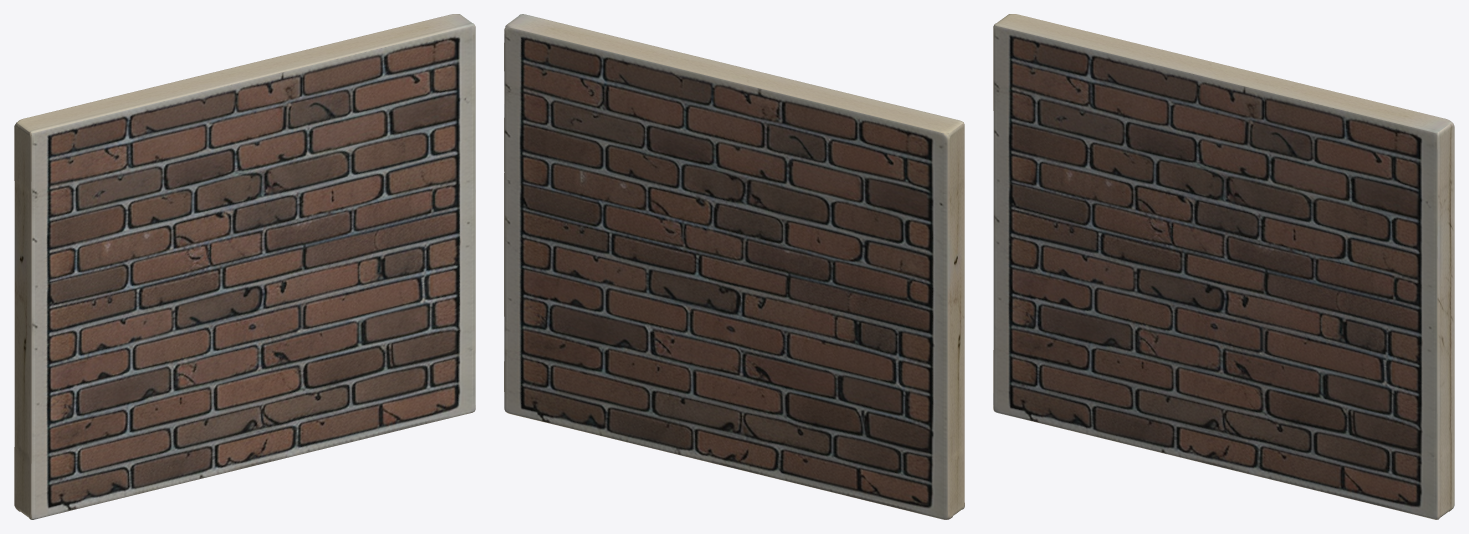
The model's file is Wall-Brick-1.glb.
3 renders of one model, left to right at view 1: azimuth 30°, elevation 25°; view 2: azimuth 150°, elevation 25°; view 3: azimuth 330°, elevation 25°, orthographic.
Parts seen in each view (by area): view 1: tmpivjb3bil.ply; view 2: tmpivjb3bil.ply; view 3: tmpivjb3bil.ply.
Boxes of the visible parts, x1,y1,x2,y2 form: tmpivjb3bil.ply: (14,14,475,519); tmpivjb3bil.ply: (504,14,964,519); tmpivjb3bil.ply: (993,14,1454,519).
Size of the model in its own units: 3 by 2.5 by 0.2.
1 material, 1 textured.
